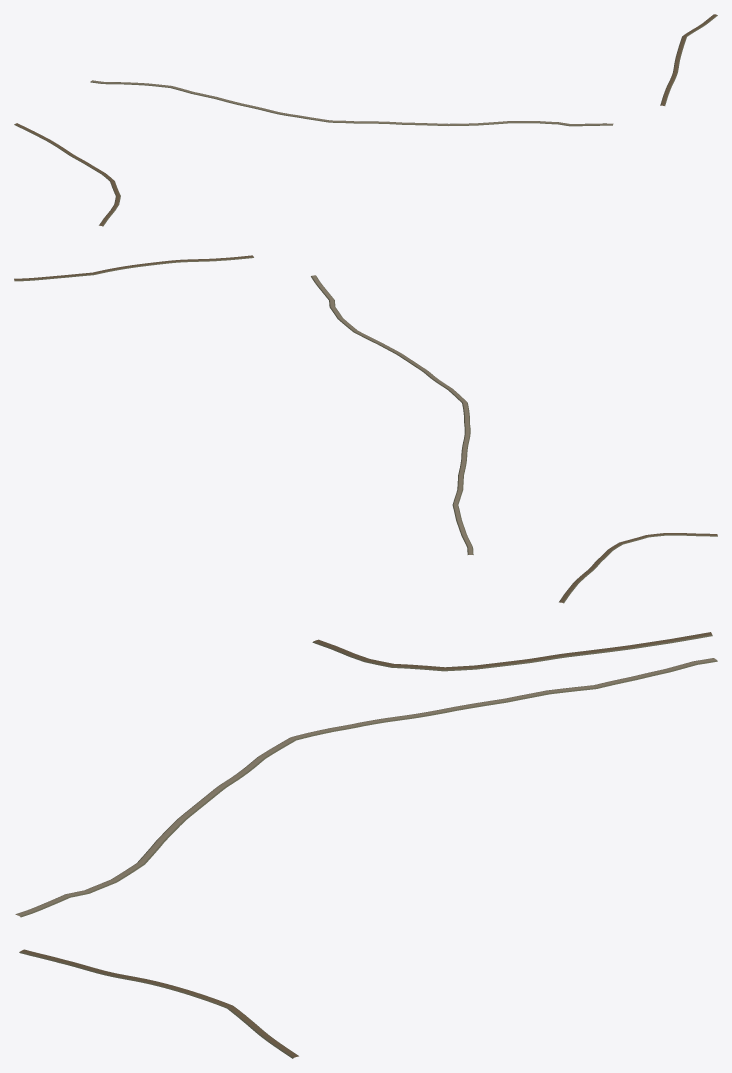
The picture shows the model from 3 angles, top to bottom: view 1: azimuth 30°, elevation 25°; view 2: azimuth 150°, elevation 25°; view 3: azimuth 270°, elevation 25°; orthographic projection. The views are drawn at different scales.
Parts seen in each view (by area): view 1: roads; view 2: roads; view 3: roads.
Boxes of the visible parts, x1=… form: roads: x1=14, y1=14, x2=717, y2=226; roads: x1=14, y1=255, x2=717, y2=603; roads: x1=15, y1=632, x2=717, y2=1058.
Bounding box in the file's own units: 726 × 81.28 × 401.
